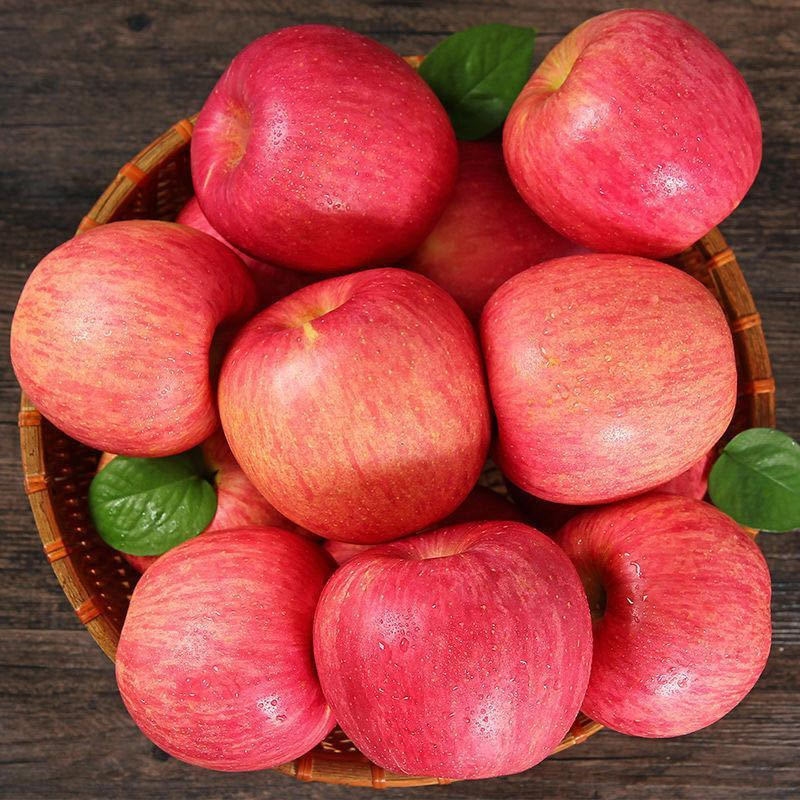apple: (215, 275, 485, 552), (313, 516, 592, 778), (185, 23, 457, 273), (498, 5, 762, 259), (484, 252, 741, 506), (7, 218, 251, 462), (116, 524, 339, 770), (550, 499, 768, 740), (401, 132, 577, 320)
